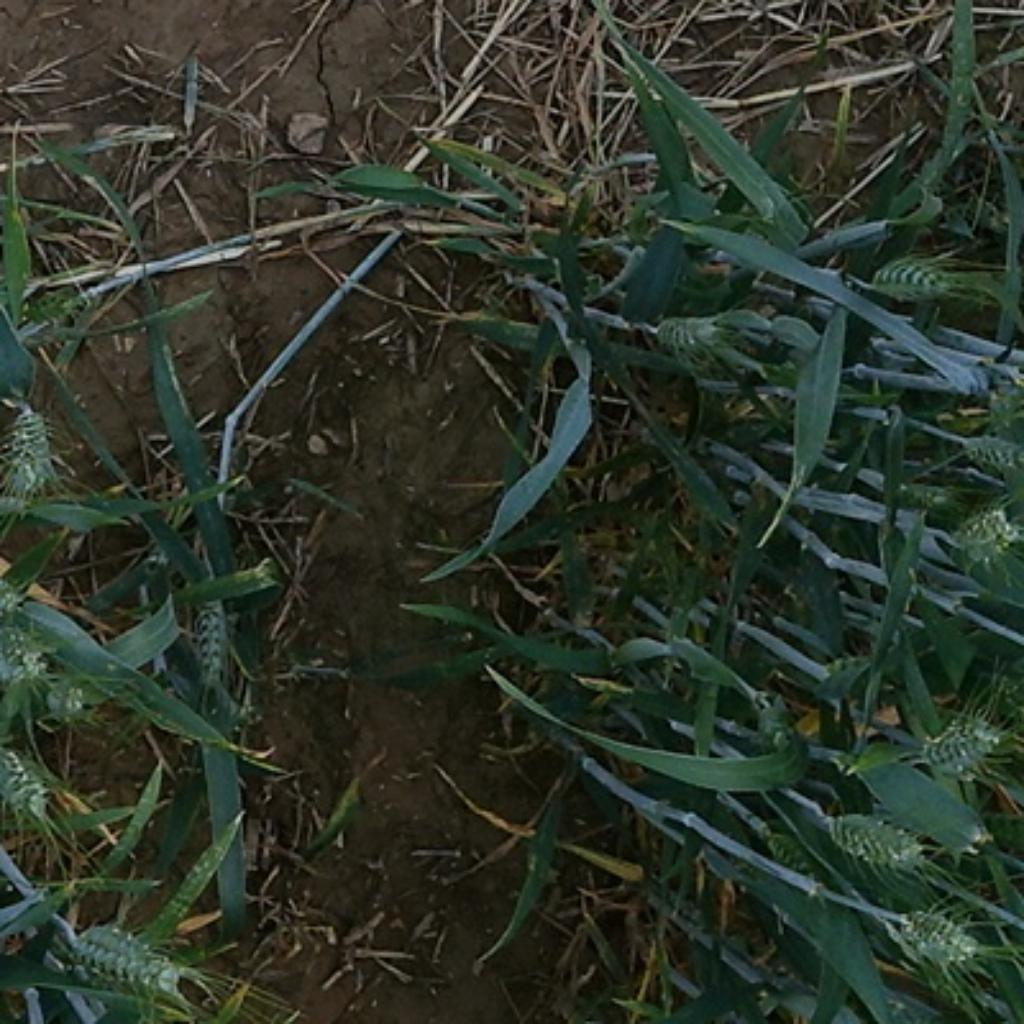0-0: (67, 921, 197, 1003), (642, 296, 765, 378), (171, 588, 242, 708), (811, 803, 929, 875), (0, 389, 64, 517), (909, 709, 1012, 788), (893, 898, 990, 977), (939, 494, 1021, 570), (862, 245, 965, 302), (0, 604, 61, 691), (0, 740, 55, 834), (20, 276, 97, 337), (969, 360, 1024, 444), (951, 427, 1024, 490), (819, 649, 901, 698), (35, 676, 99, 732), (762, 824, 814, 890)
